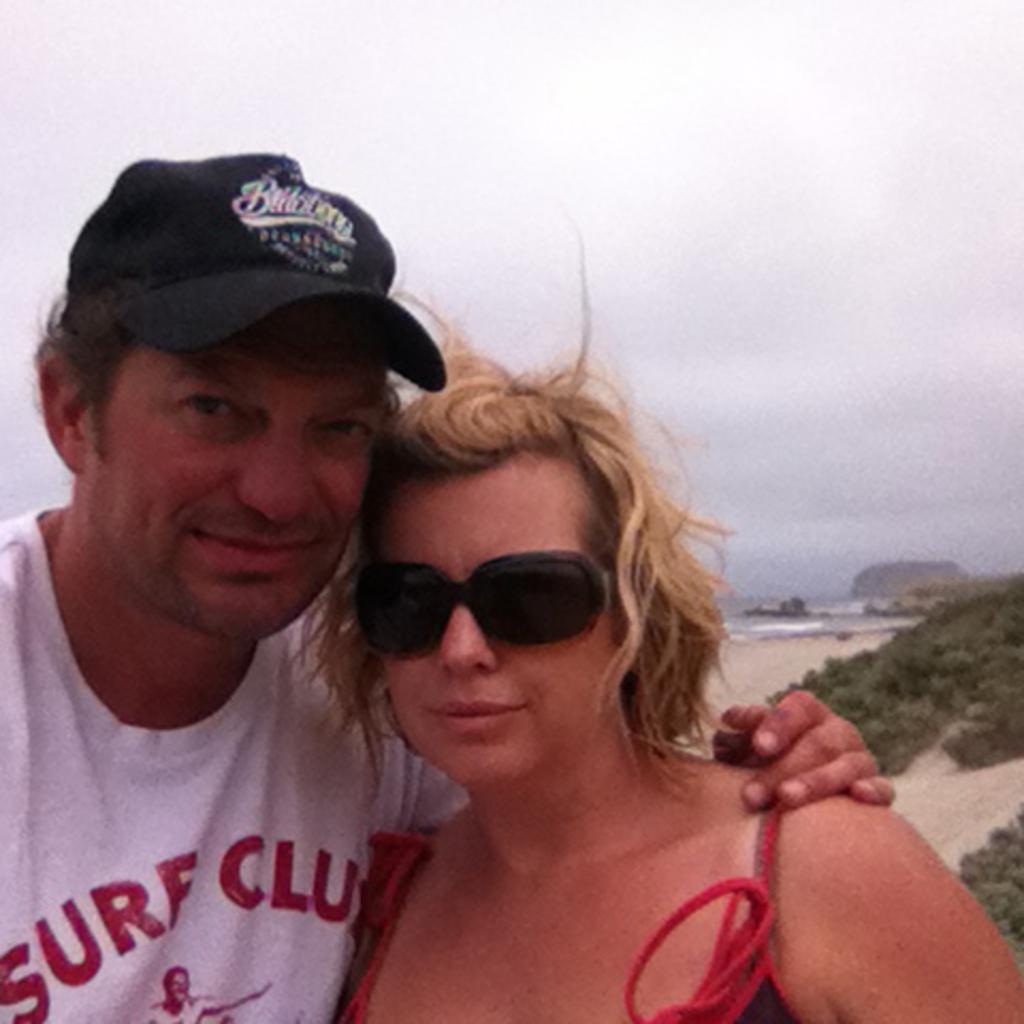Hat: (64, 144, 448, 394)
